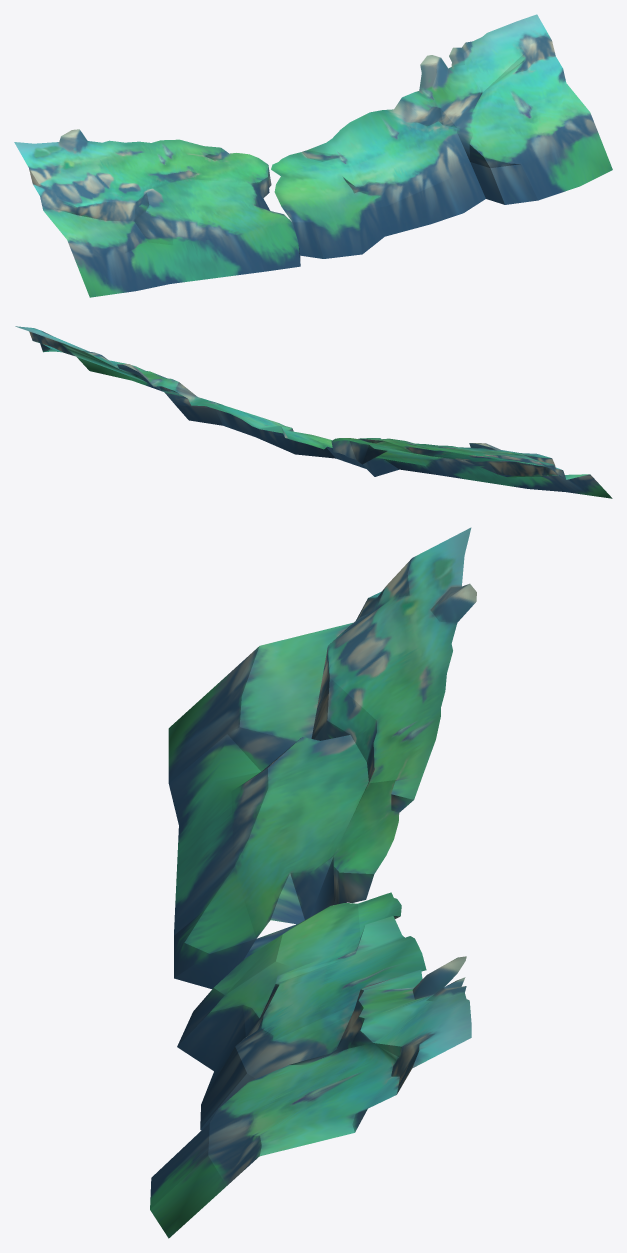
The model's file is SM_S01_ny_grd02_ABB.fbx.
3 renders of one model, top to bottom at view 1: azimuth 30°, elevation 25°; view 2: azimuth 150°, elevation 25°; view 3: azimuth 270°, elevation 25°, orthographic. The views are drawn at different scales.
Visible parts, largest first — view 1: SM_S01_ny_grd02_ABB; view 2: SM_S01_ny_grd02_ABB; view 3: SM_S01_ny_grd02_ABB.
Part boxes in pixels (box(x1,y1,x2,y2)): SM_S01_ny_grd02_ABB: box(14, 14, 612, 297); SM_S01_ny_grd02_ABB: box(15, 326, 612, 498); SM_S01_ny_grd02_ABB: box(150, 527, 476, 1238).
Size of the model in its own units: 8302 by 1906 by 2246.
